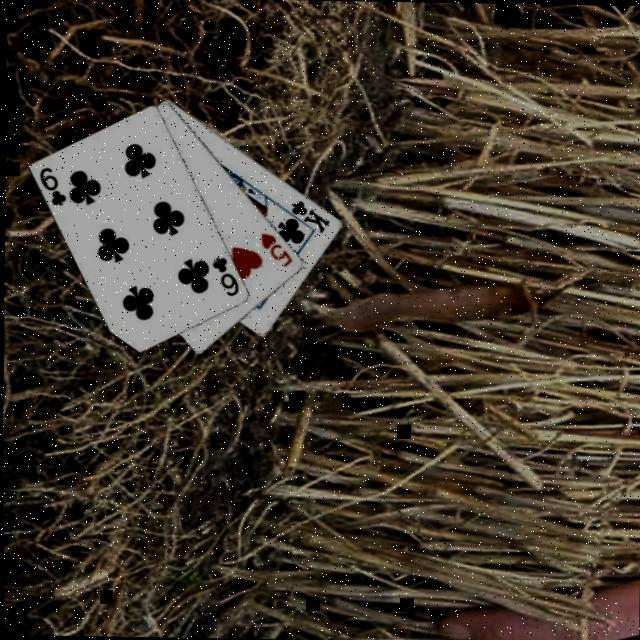5H: (258, 228, 296, 269)
6C: (37, 162, 70, 208), (210, 252, 242, 298)
KC: (280, 196, 334, 234)
